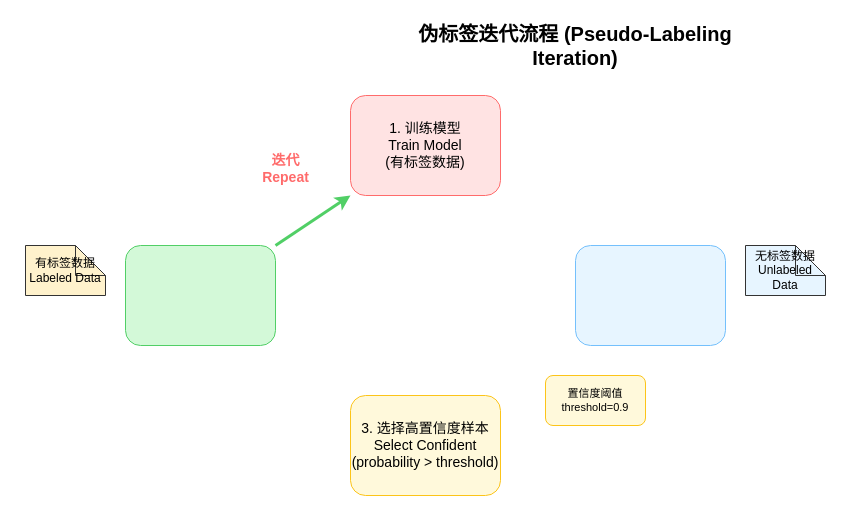
Some shapes in this 843 by 513 pixel diagram are drawn without their labels. The centre of each missing label's shape, as x and y in pixels:
2. 预测无标签数据 Predict Unlabeled (生成伪标签): (x=650, y=295)
4. 加入训练集 Add to Training (扩展训练数据): (x=200, y=295)
